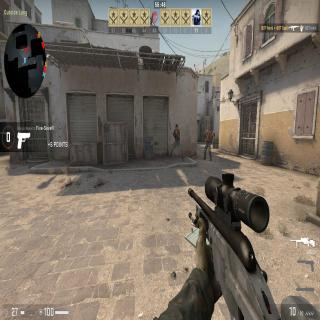T-Body: (170, 124, 183, 159), (203, 128, 212, 161), (211, 130, 215, 137)
T-Head: (175, 124, 178, 129), (207, 128, 209, 134), (213, 130, 214, 134)
